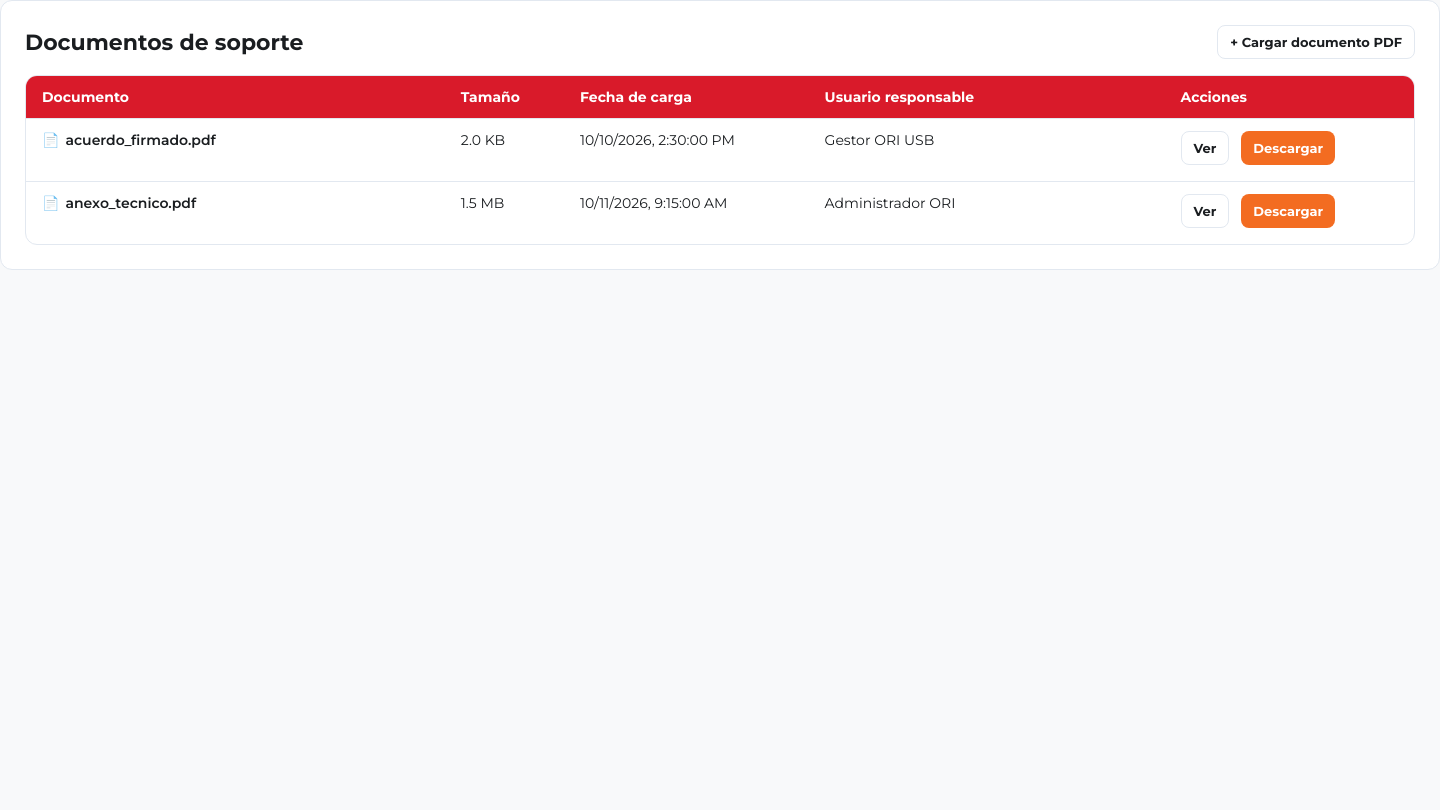
it: SoportesConvenio (FE-02, CA-03: Visualización y descarga de soportes) › HT-18 CA-05: tras un 403 en el visor, cerrar devuelve a la lista sin recargarla
Click the link with test id "btn-ver-soporte-1" at (1205, 148), box [1181, 131, 1229, 165]
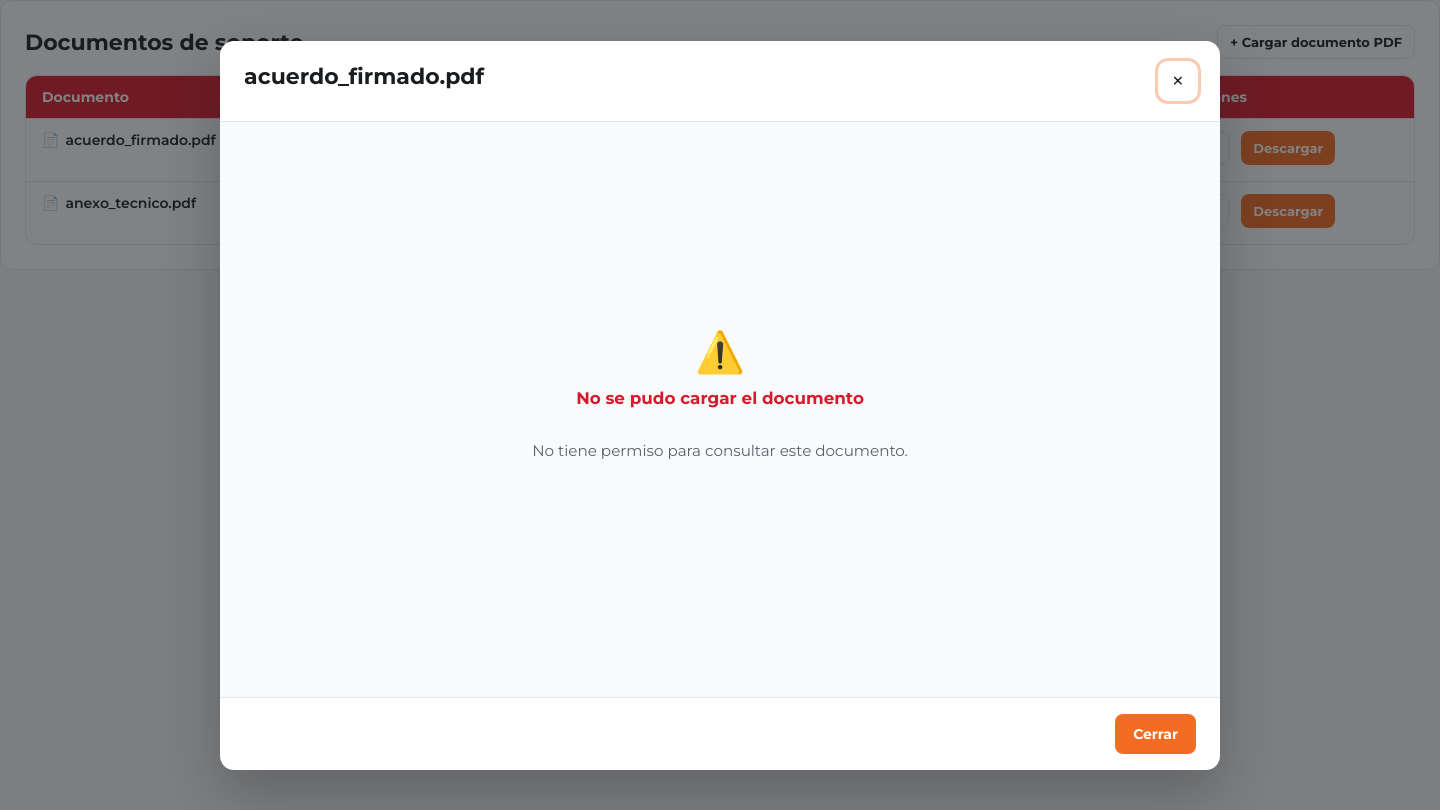
Expected: the element with test id "preview-error" is shown, [532, 327, 908, 460]
Expected: the text "No tiene permiso para consultar este documento." is shown, [532, 440, 908, 462]
Click the button named "Cerrar previsualizador" at (1178, 80), box [1160, 62, 1196, 98]
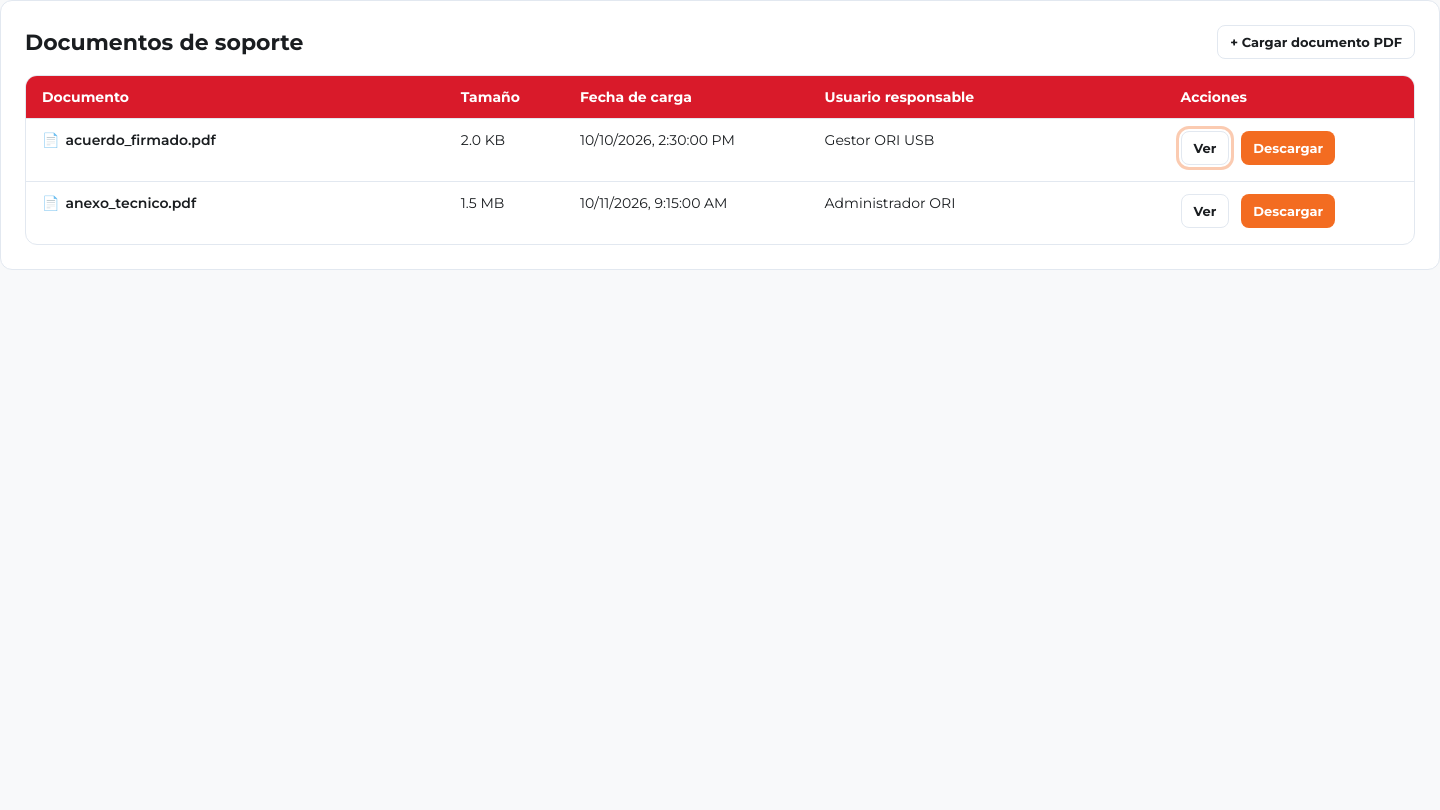
Expected: the table with test id "tabla-soportes" is shown, [26, 76, 1414, 244]
Expected: the dialog is gone
